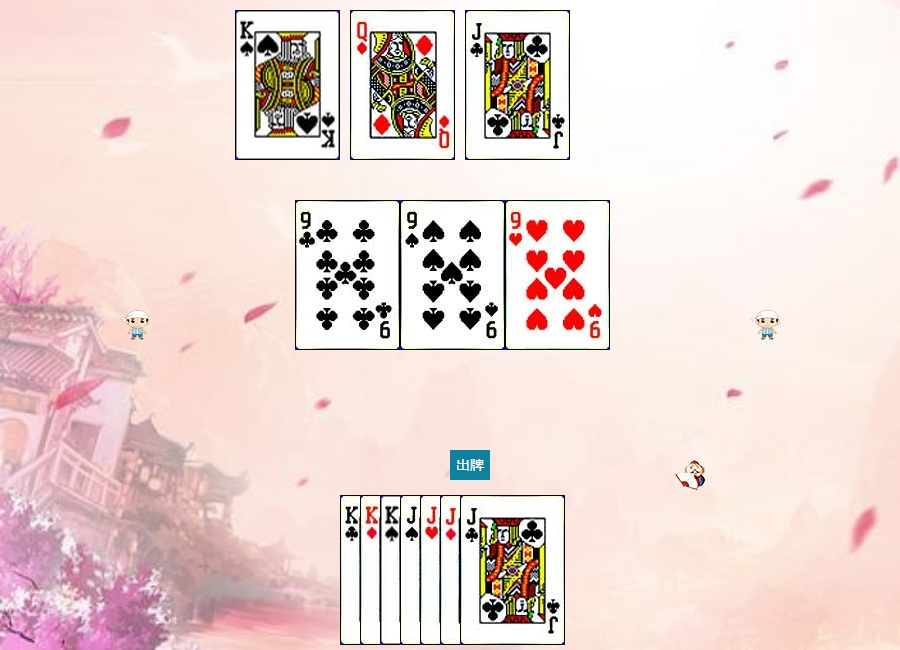11~1: (440, 495, 545, 645)
11~2: (465, 10, 570, 160), (460, 495, 565, 645)
11~3: (420, 495, 525, 645)
11~4: (400, 495, 505, 645)
12~1: (350, 10, 455, 160)
13~1: (360, 495, 465, 645)
13~2: (340, 495, 445, 645)
13~4: (235, 10, 340, 160), (380, 495, 485, 645)
9~2: (295, 200, 400, 350)
9~3: (505, 200, 610, 350)
9~4: (400, 200, 505, 350)
